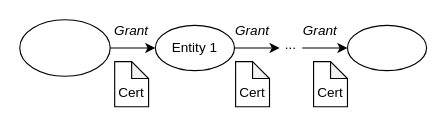
This 446x127 diagram has some shape labels left out. Here are the shapes that lost their labels. From the top down, the centre of each, then its label:
At [64,47]: "Authority Entity".
At [386,47]: "Entity n".
